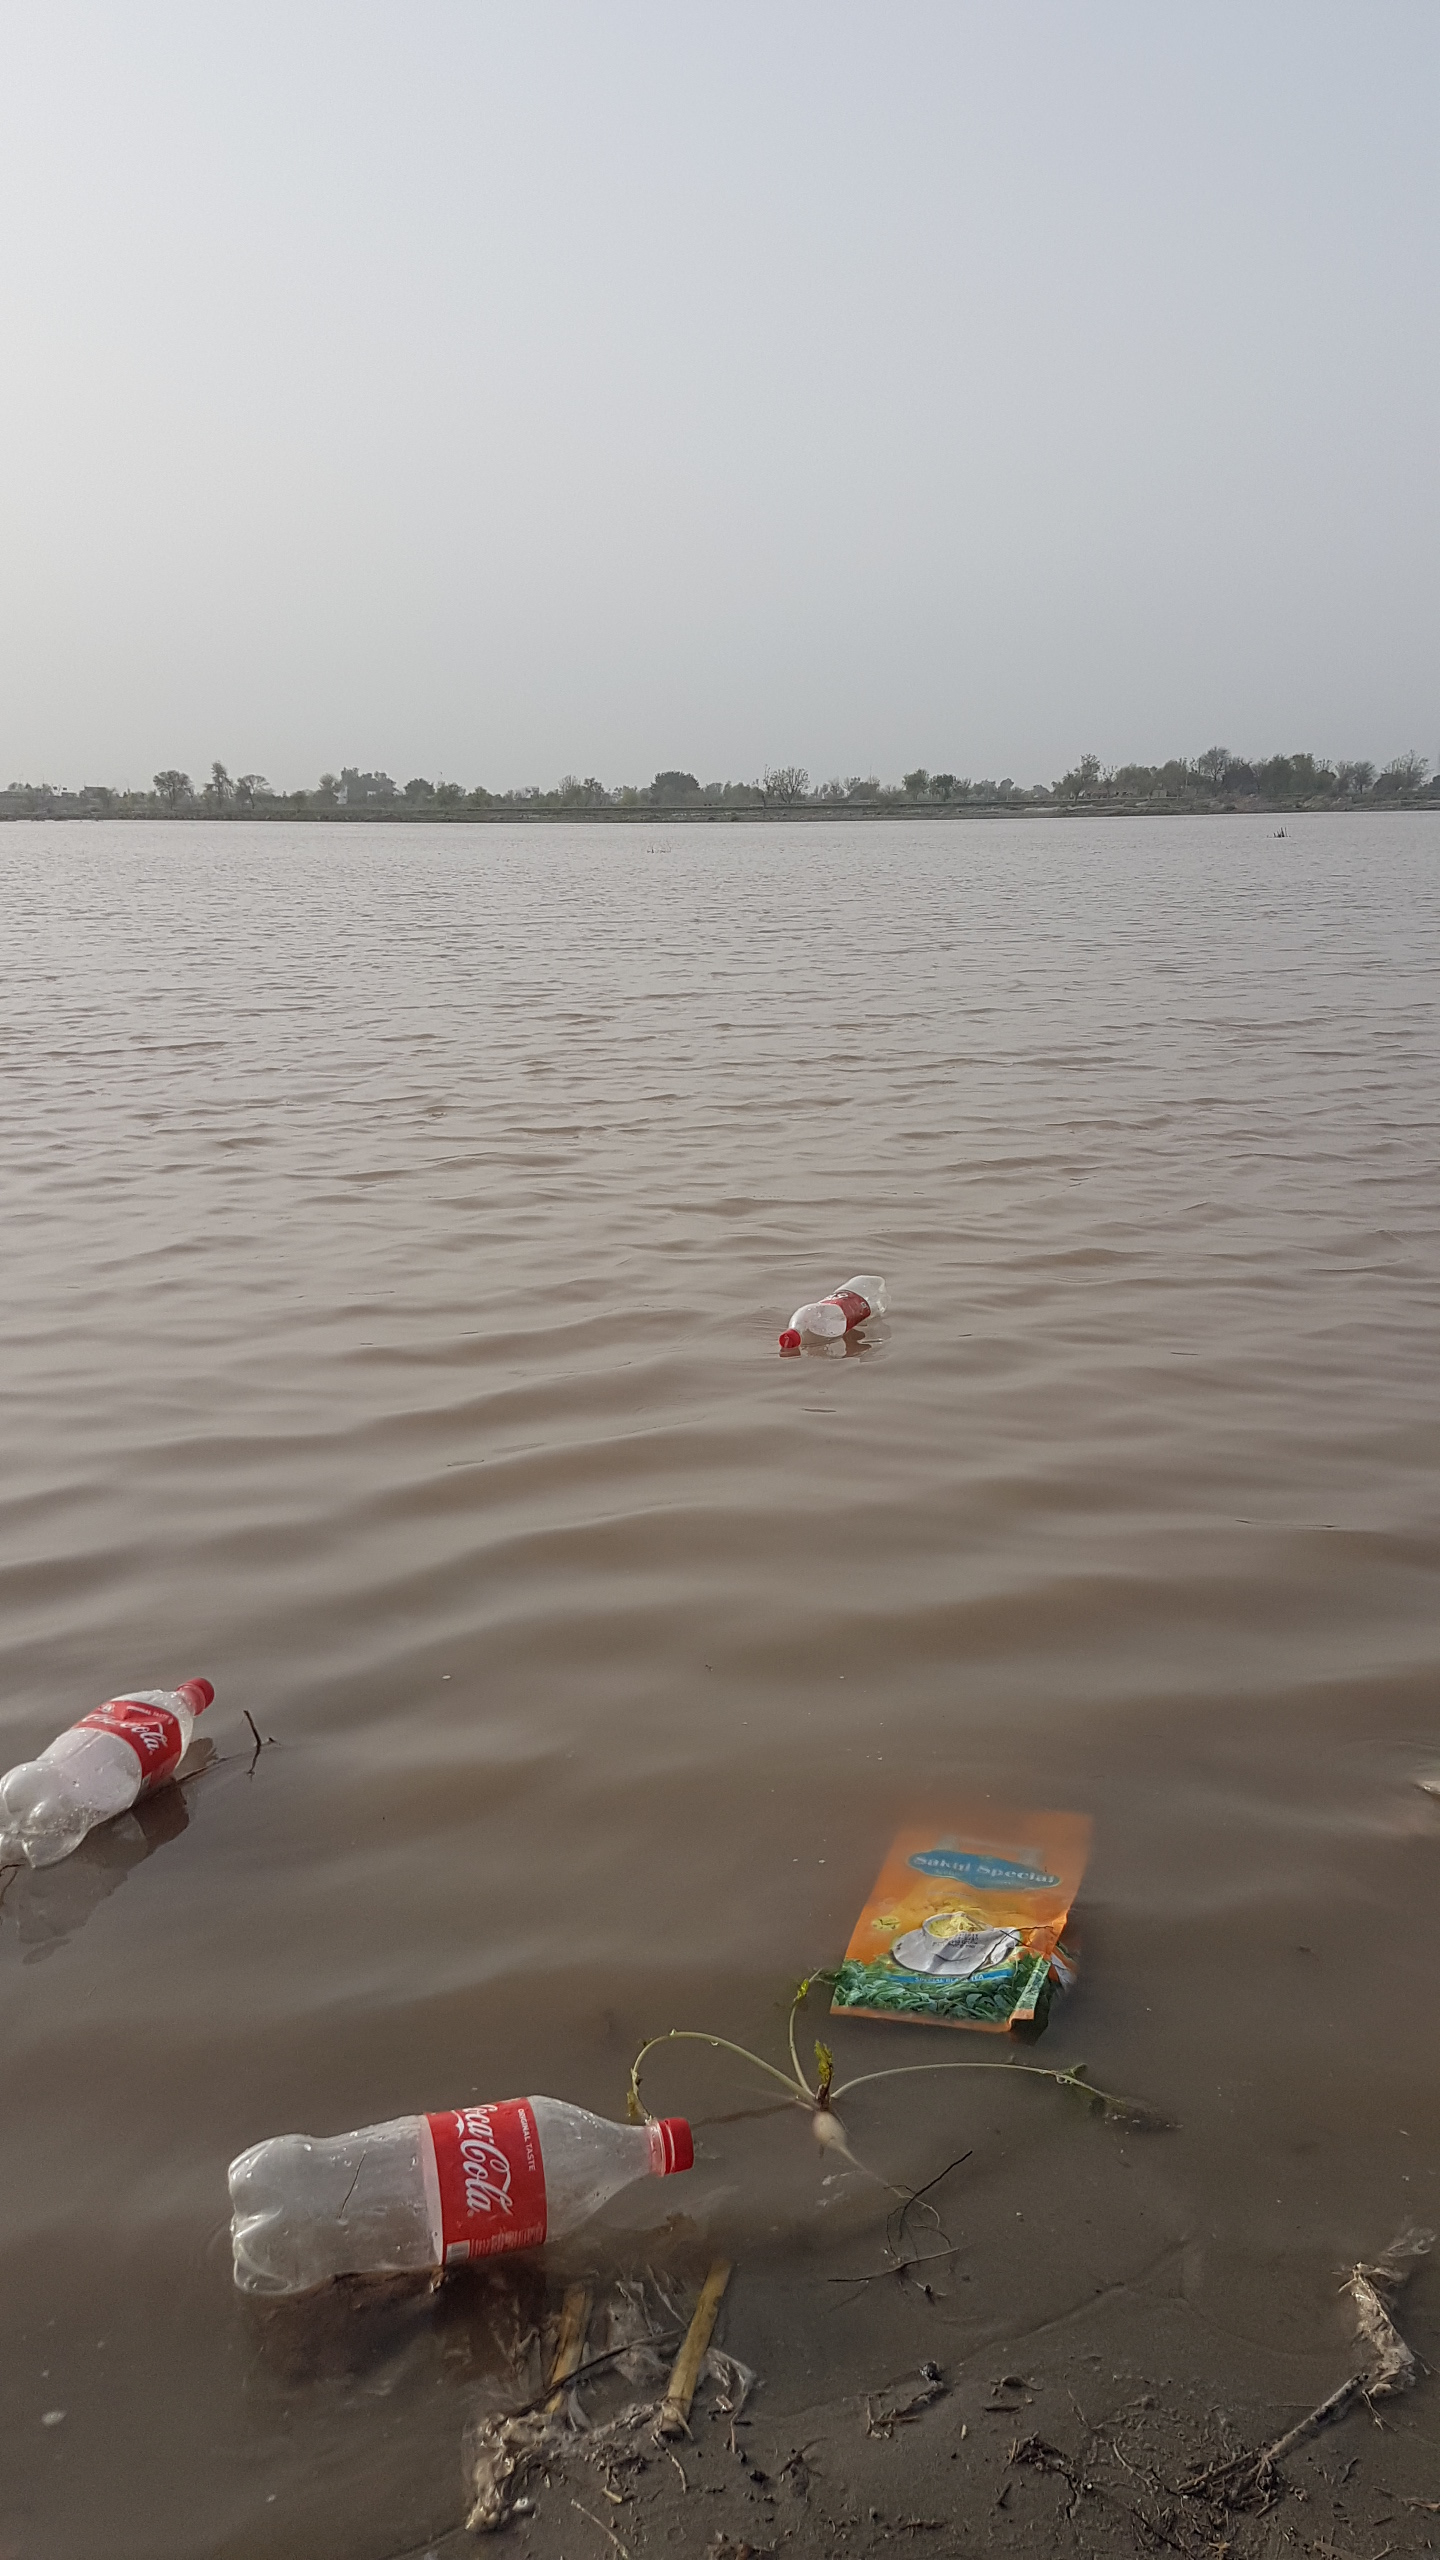Plastic Bottle: (227, 2094, 695, 2296), (2, 1677, 216, 1867), (781, 1275, 890, 1349)
